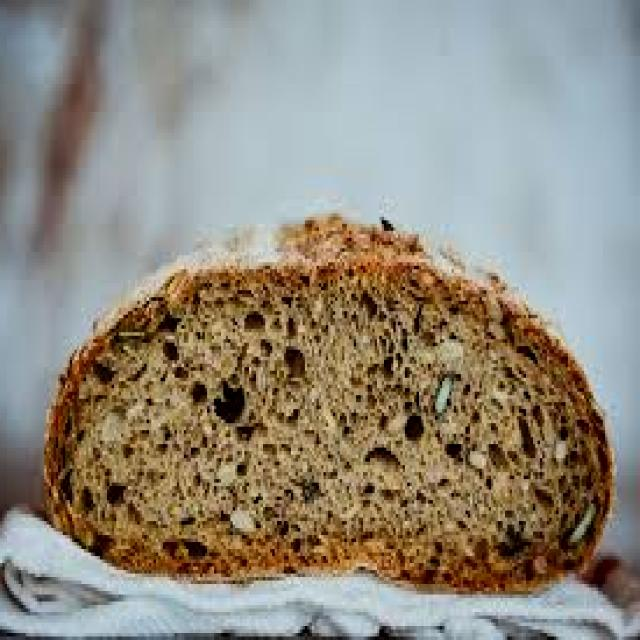wet: (35, 207, 608, 572), (595, 209, 604, 225)
